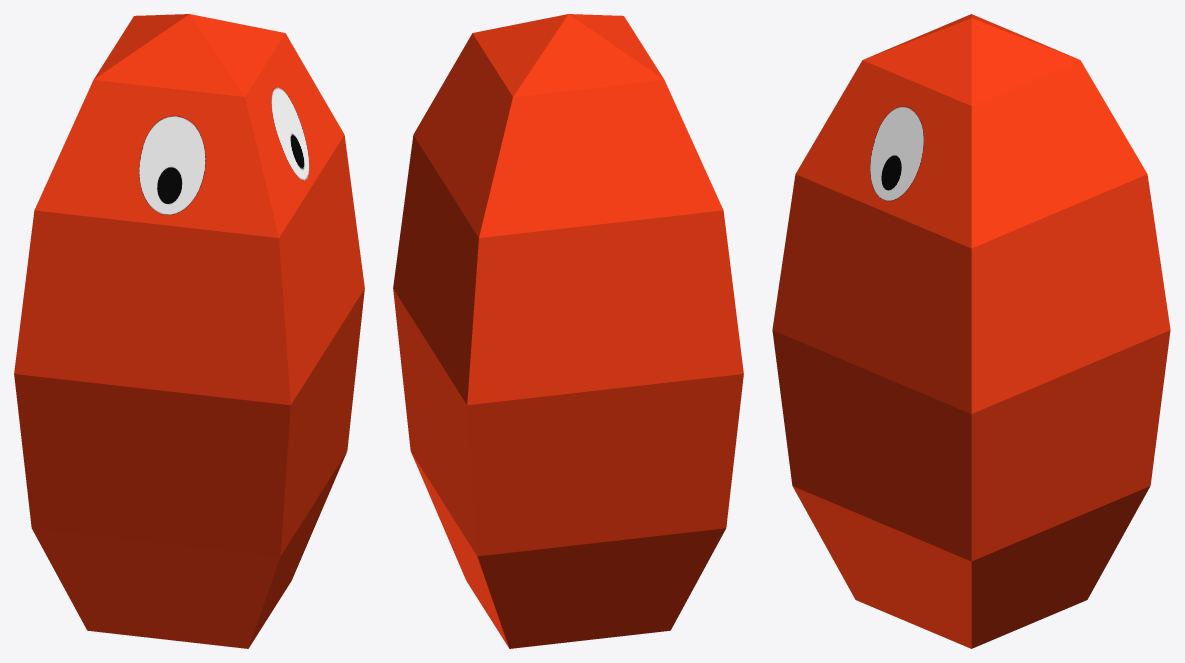
The model's file is dot_jump.fbx.
3 renders of one model, left to right at view 1: azimuth 30°, elevation 25°; view 2: azimuth 150°, elevation 25°; view 3: azimuth 270°, elevation 25°, orthographic.
Visible parts, largest first — view 1: dot; view 2: dot; view 3: dot.
Boxes of the visible parts, x1,y1,x2,y2 form: dot: [14, 14, 364, 648]; dot: [393, 14, 743, 648]; dot: [772, 14, 1170, 648].
Size of the model in its own units: 15.48 by 24.96 by 15.48.
Materials: 1 (1 with a texture image).
